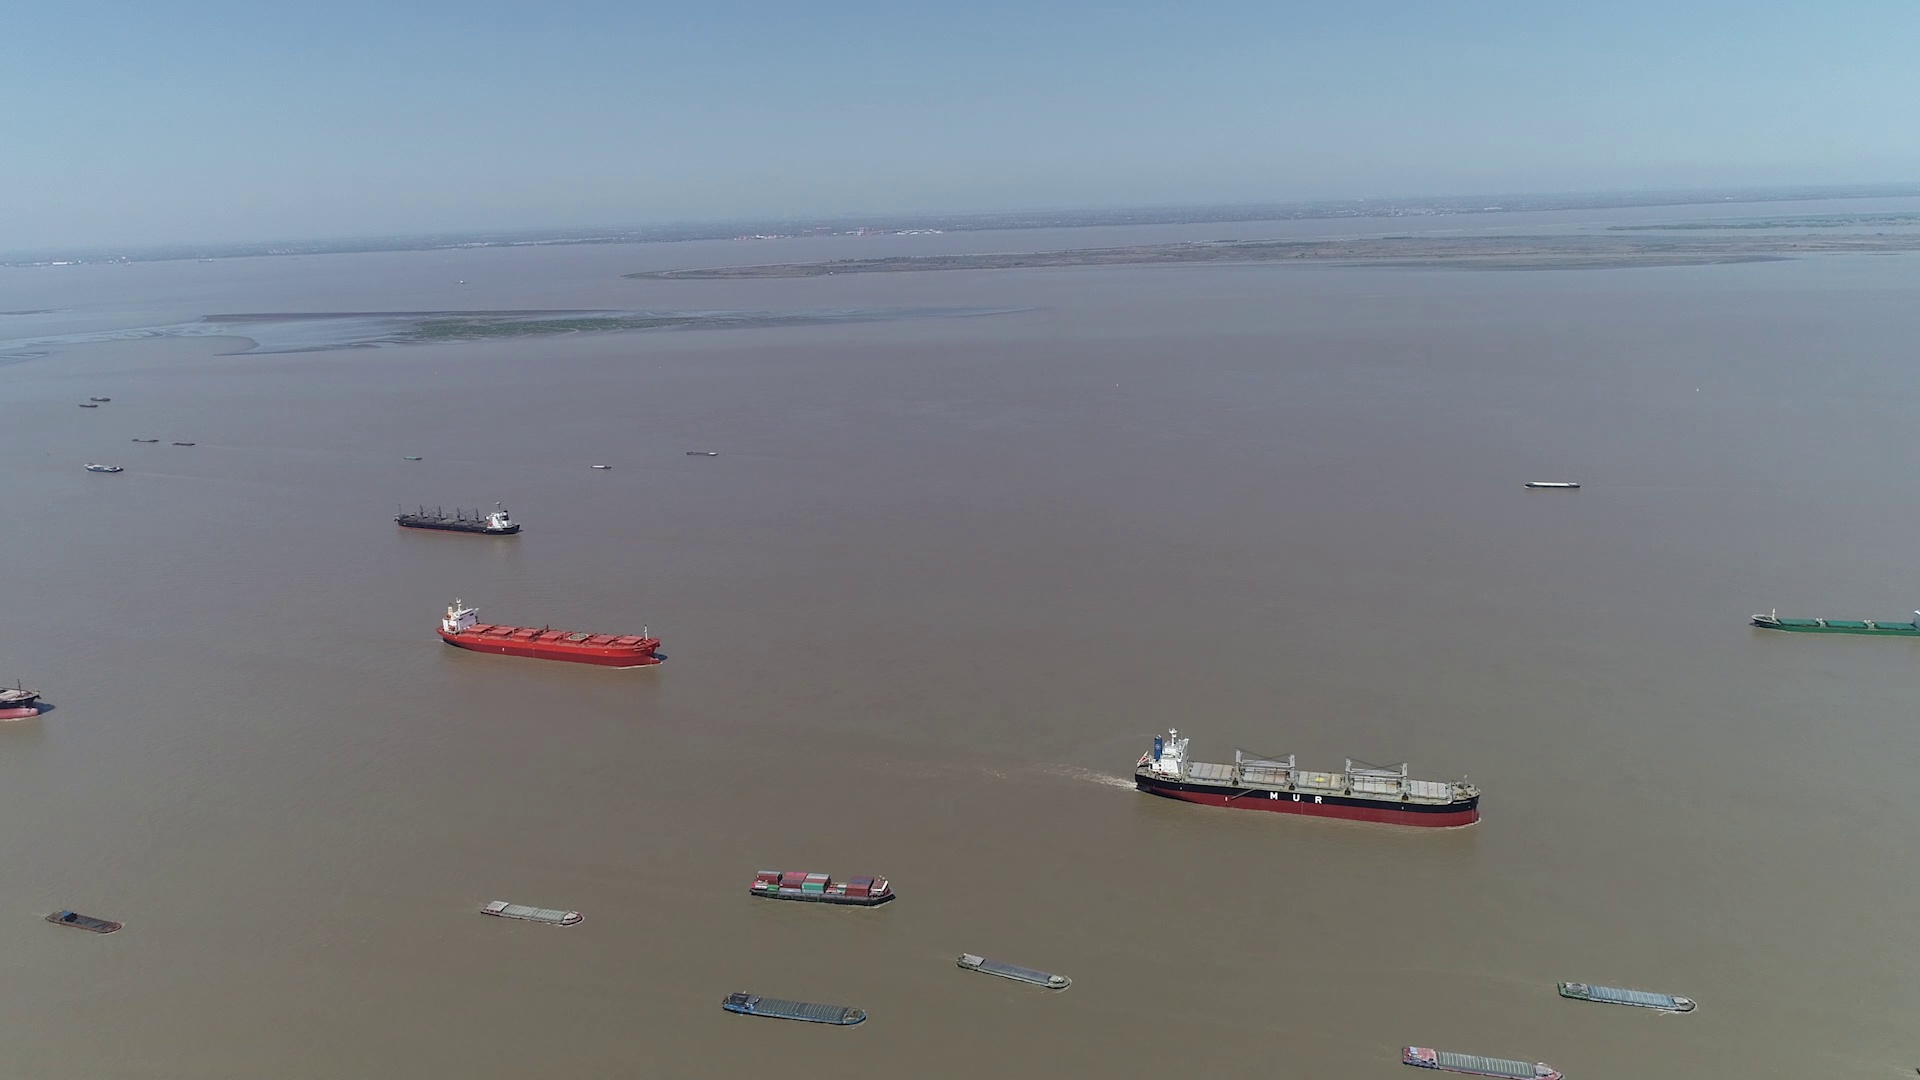ship: (1131, 731, 1480, 825), (440, 597, 663, 667), (1402, 1044, 1559, 1079), (752, 869, 894, 906), (723, 992, 868, 1026), (1751, 608, 1917, 637), (1557, 978, 1696, 1013), (955, 953, 1072, 993), (393, 502, 520, 535), (479, 898, 583, 924), (0, 678, 47, 725), (46, 910, 121, 934), (1527, 480, 1580, 489), (84, 462, 124, 473), (684, 450, 719, 456)
